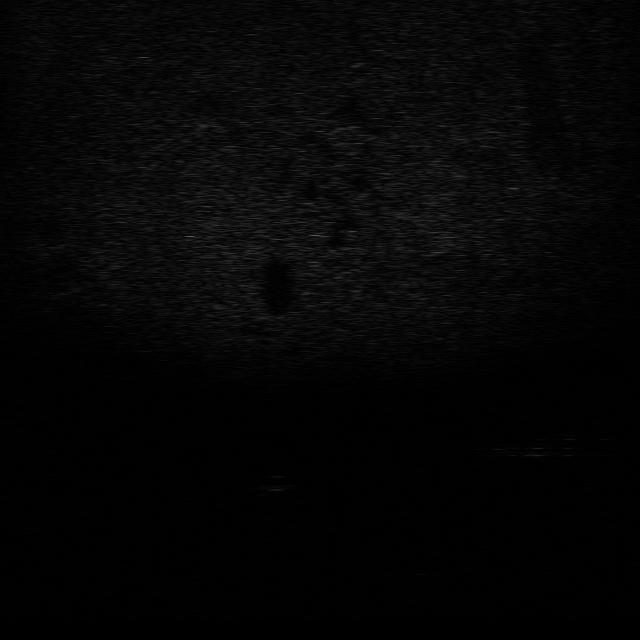ball: (256, 469, 298, 494)
human body: (480, 429, 581, 460)
